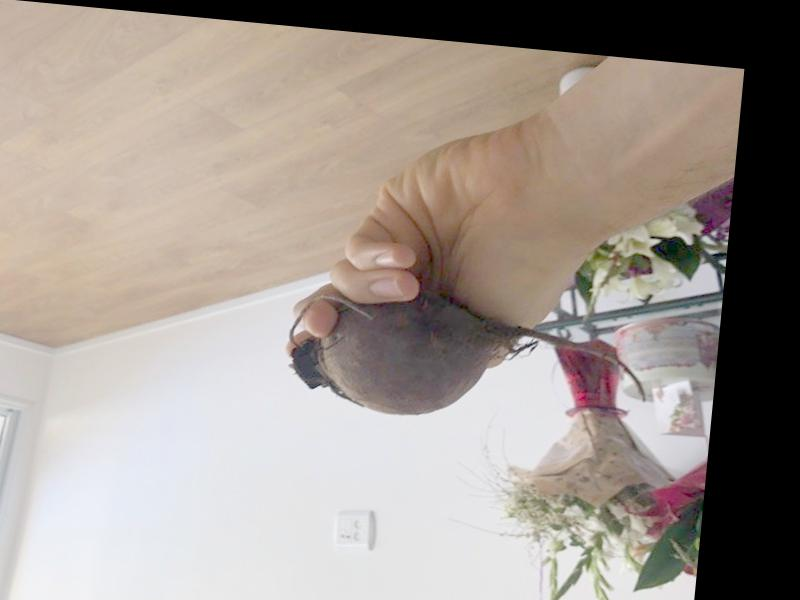Beet: (282, 280, 652, 437)
